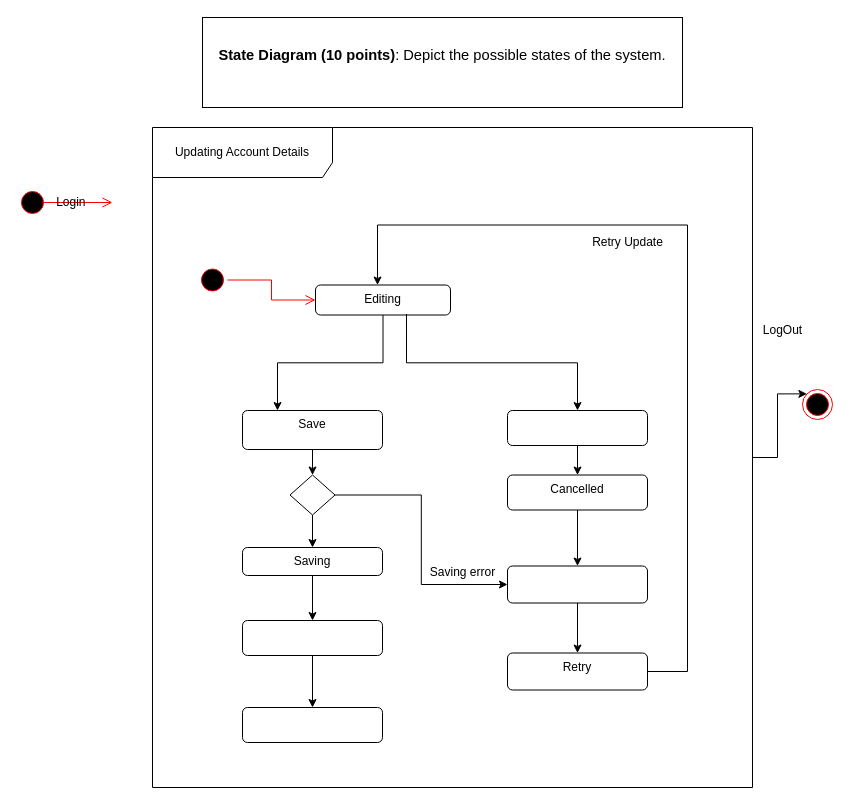
This 850x805 diagram has some shape labels left out. The shapes that lost their labels are listed below. From the top down, each one's centre as x and y in pixels, then its label:
pixel 577 428: Cancel
pixel 577 584: Error
pixel 312 638: Success
pixel 312 724: Done
